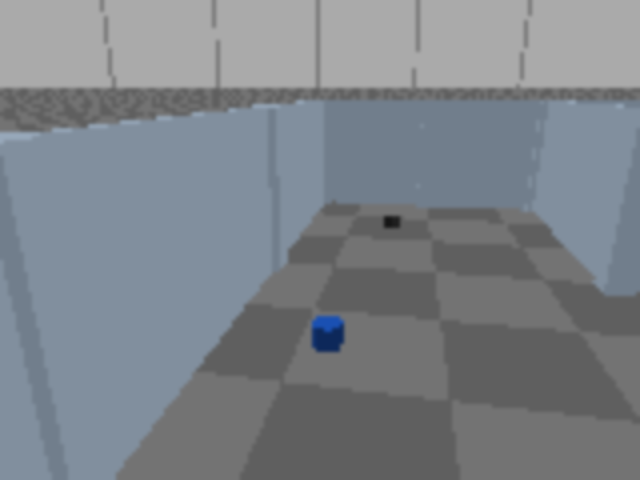puck: (312, 316, 342, 354), (382, 214, 402, 230)
